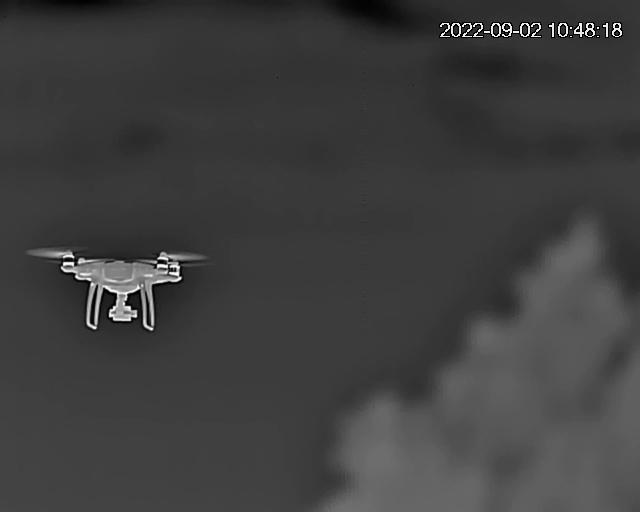DJI-Phantom: (25, 240, 213, 332)
